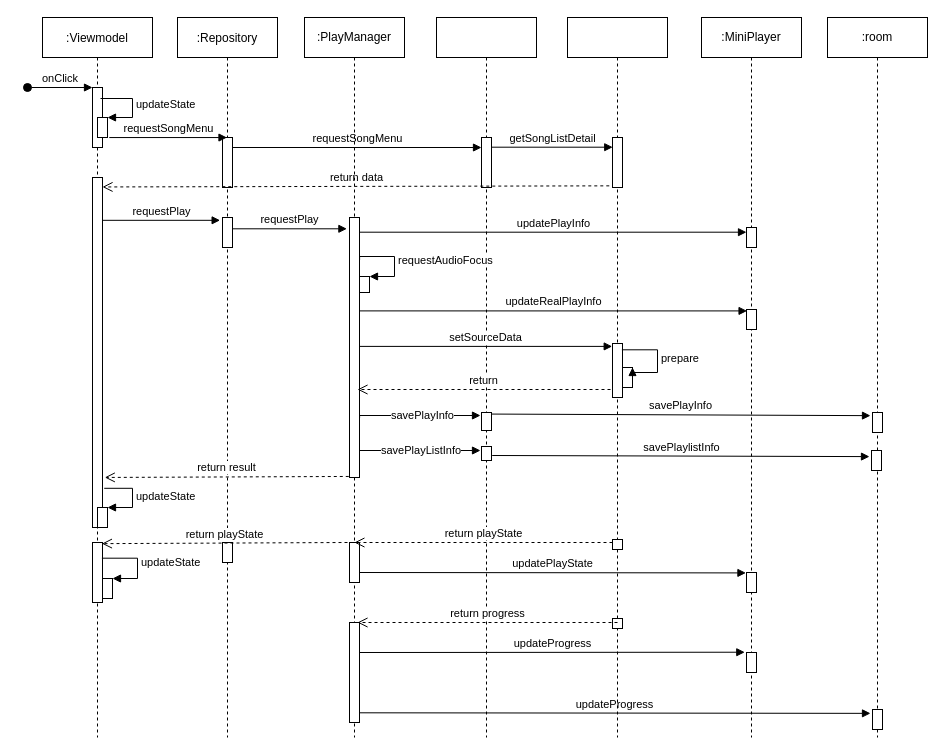
This 945x755 diagram has some shape labels left out. Here are the shapes that lost their labels. From the top down, the box of each, then its label:
(436, 16, 536, 738): :Model
(566, 16, 668, 738): :QQSDK
